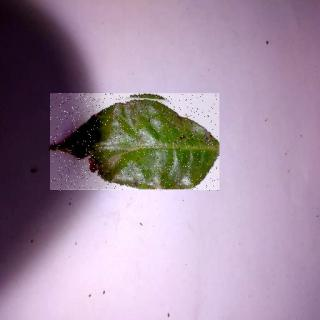Bird Eye Spot: (51, 95, 220, 192)
